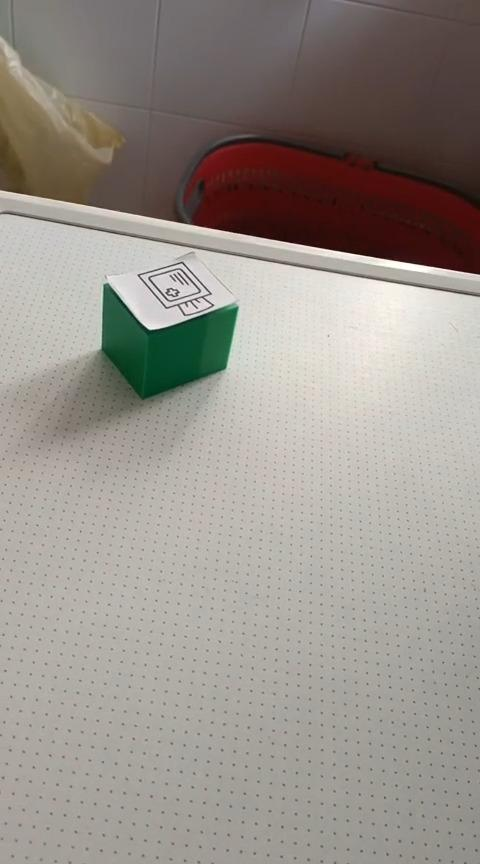Gauze: (99, 249, 239, 400)
